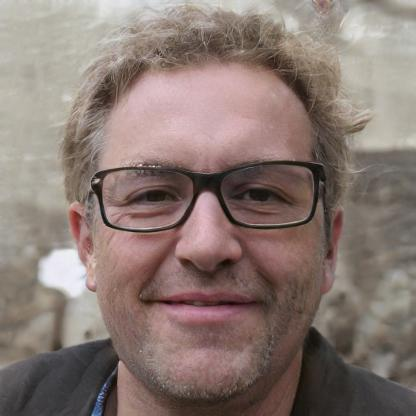glasses: (90, 156, 325, 235)
